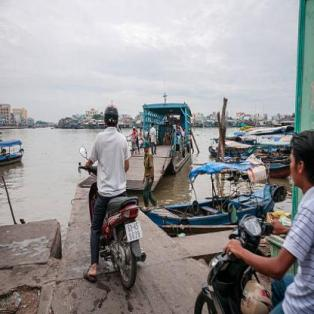Motocicleta: (198, 199, 288, 313), (74, 152, 148, 289)
